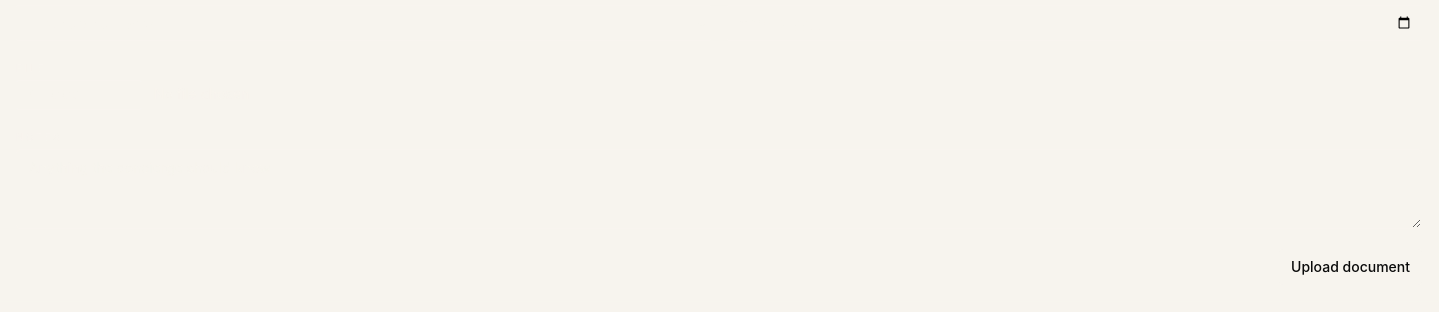
Test: requires a file before submitting
This screenshot has width=1439, height=312.
Click the button "Upload document": (1351,267) x1=1279 y1=249 x2=1422 y2=285
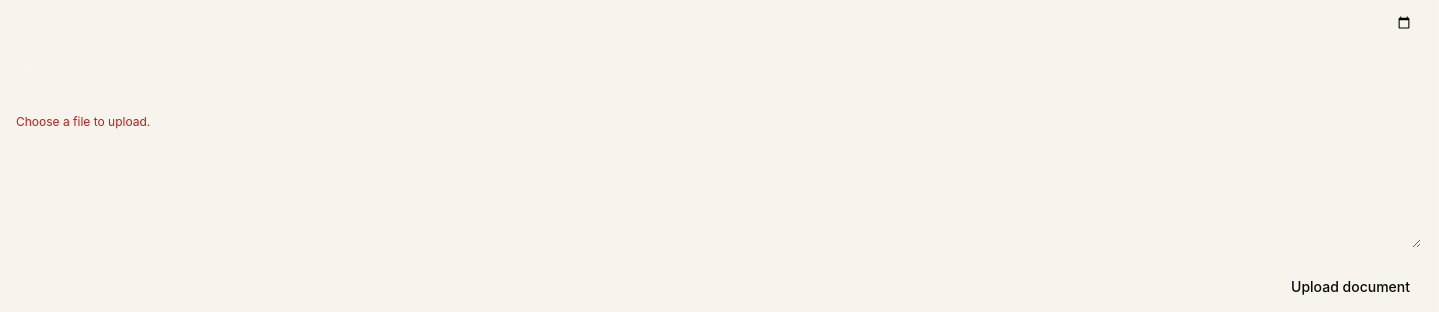
Expected: the text "Choose a file to upload." is shown, x1=16 y1=114 x2=150 y2=129
